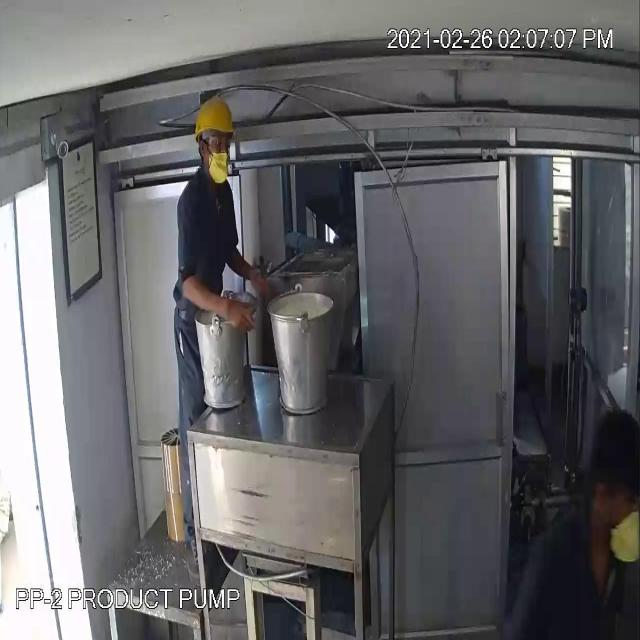helmet: (188, 94, 242, 158)
